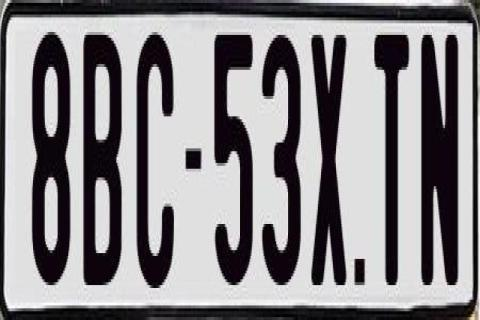0: (262, 29, 306, 297), (215, 32, 255, 291), (30, 29, 68, 282)
B: (81, 29, 121, 285)
C: (136, 29, 178, 303)
N: (422, 29, 462, 294)
T: (374, 26, 415, 276)
X: (310, 32, 348, 300)
